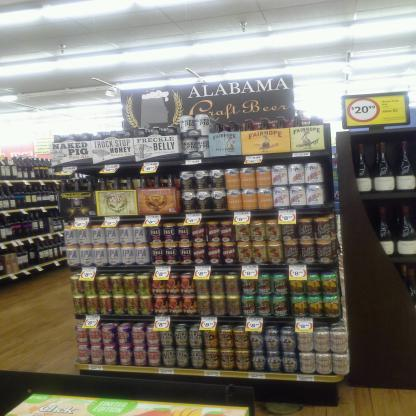Void: (160, 167, 179, 176), (122, 169, 138, 176)
